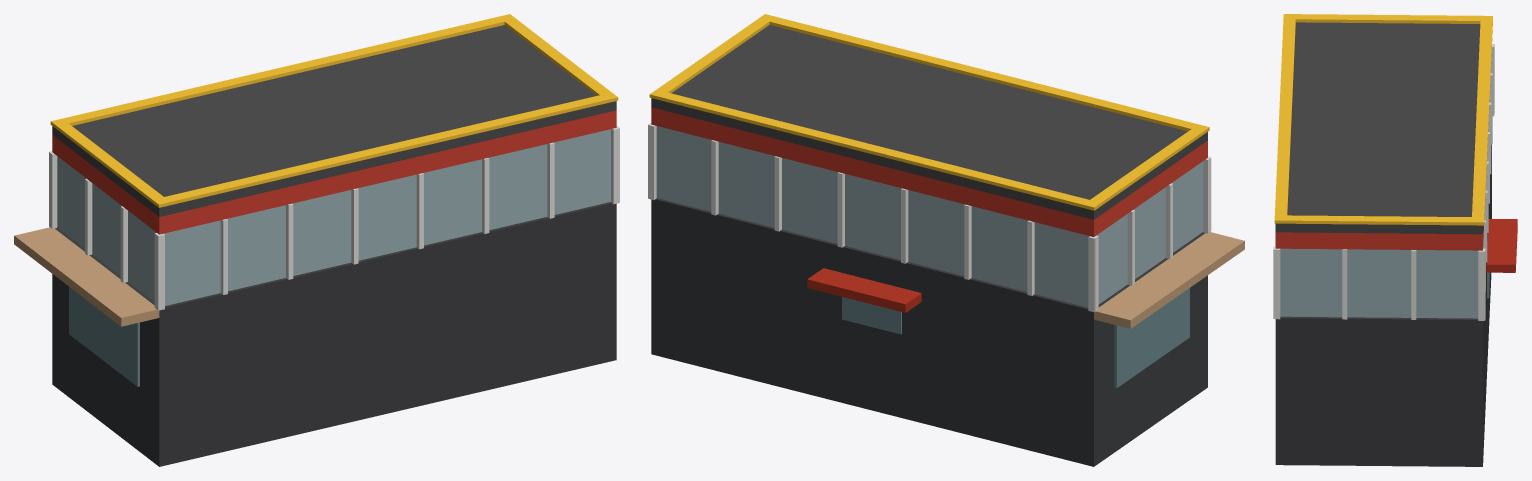
Rendered from mcdonalds-fuxingbei.glb.
3 renders of one model, left to right at view 1: azimuth 30°, elevation 25°; view 2: azimuth 150°, elevation 25°; view 3: azimuth 270°, elevation 25°, orthographic. The views are drawn at different scales.
Visible parts, largest first — view 1: mcdonalds-fuxingbei; view 2: mcdonalds-fuxingbei; view 3: mcdonalds-fuxingbei.
Part boxes in pixels (x1,y1,x2,y2): mcdonalds-fuxingbei: (14,14,619,466); mcdonalds-fuxingbei: (648,14,1244,466); mcdonalds-fuxingbei: (1273,14,1517,466).
Size of the model in its own units: 23.71 by 12 by 10.86.
